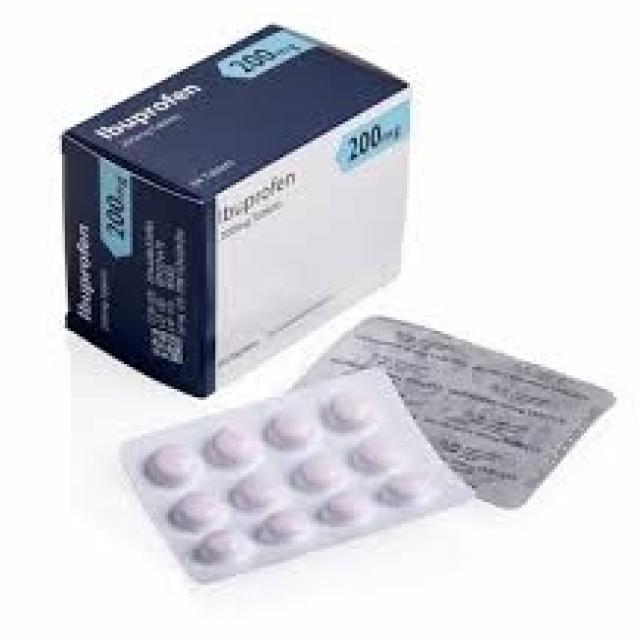datamatrix: (142, 322, 192, 370)
